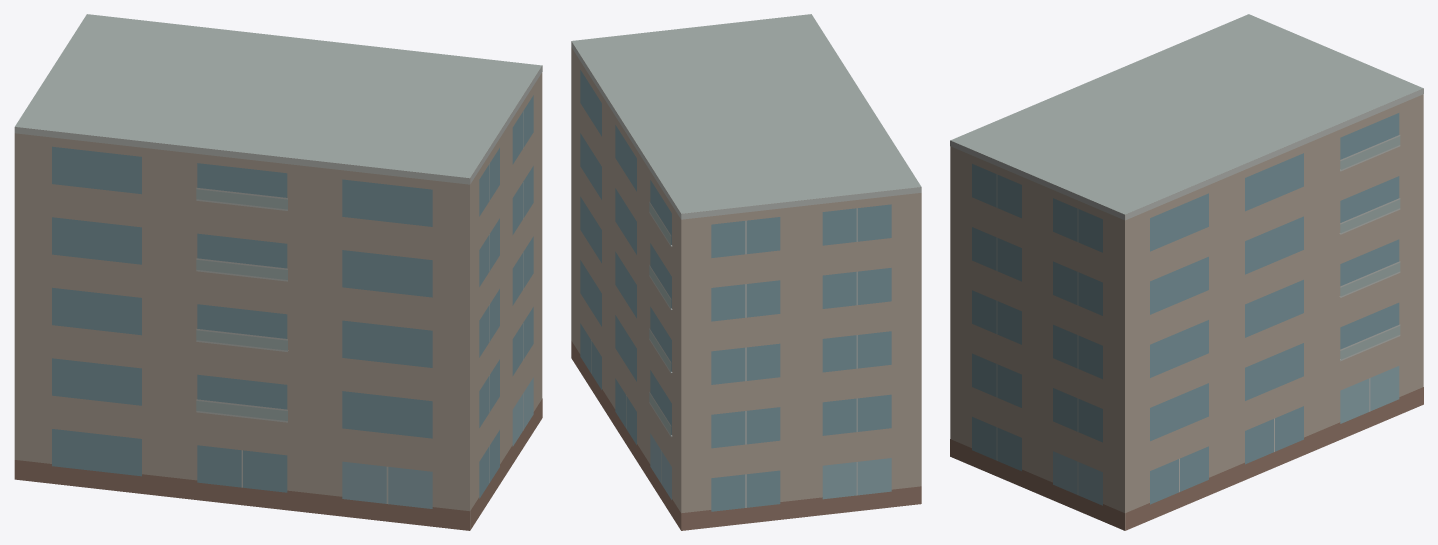
Rendered from survey-upis-33032892.glb.
3 views of the same model, side by side, from view 1: azimuth 30°, elevation 25°; view 2: azimuth 150°, elevation 25°; view 3: azimuth 270°, elevation 25° (orthographic). The views are drawn at different scales.
Parts seen in each view (by area): view 1: survey-upis-33032892.tmp; view 2: survey-upis-33032892.tmp; view 3: survey-upis-33032892.tmp.
Boxes of the visible parts, box(x1,y1,x2,y2) form: survey-upis-33032892.tmp: box(14, 14, 542, 530); survey-upis-33032892.tmp: box(571, 14, 921, 530); survey-upis-33032892.tmp: box(950, 14, 1423, 530).
Size of the model in its own units: 18.11 by 13.3 by 18.06.
